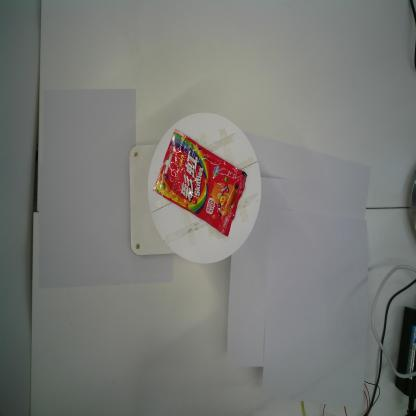Candy: (152, 128, 248, 238)
